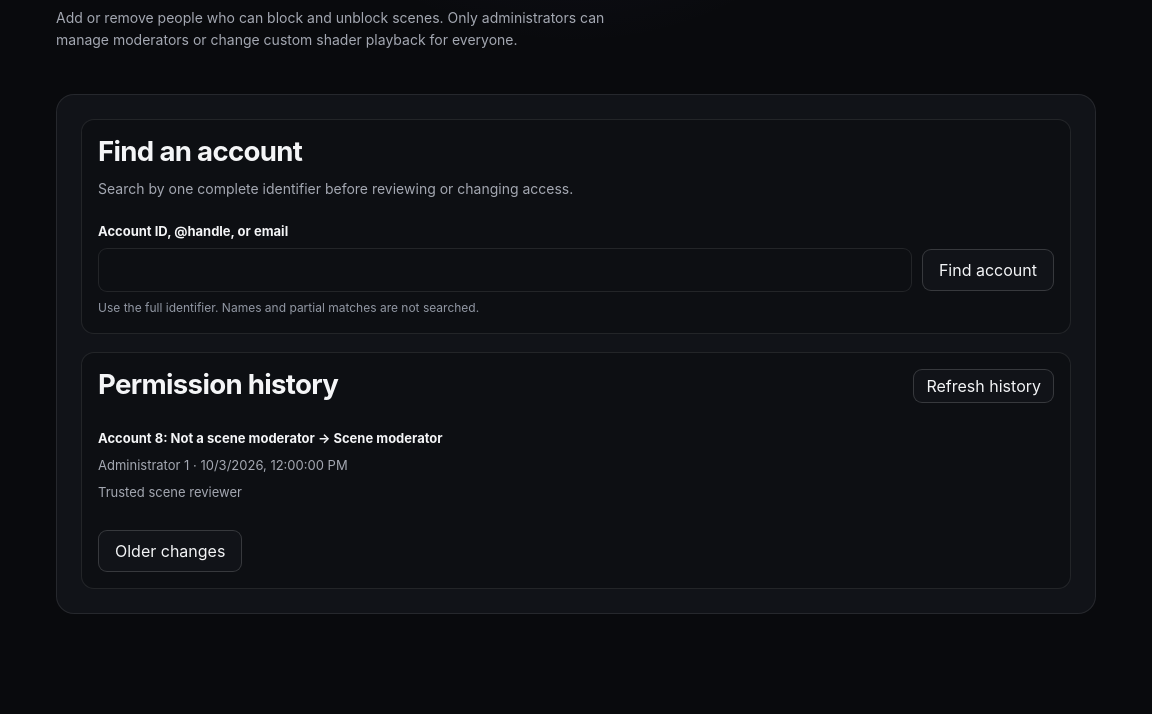
Scenario: moderator management › shows administrator audit records and replaces the bounded page when loading older history
This screenshot has width=1152, height=714.
(page scrolled)
Check: the text "Trusted scene reviewer" is shown, box [98,484,242,500]
Check: the text "Administrator 1 · 10/3/2026, 12:00:00 PM" is shown, box [98,457,348,473]
Click the button "Older changes" at {"x": 170, "y": 551}, box [98,530,242,572]
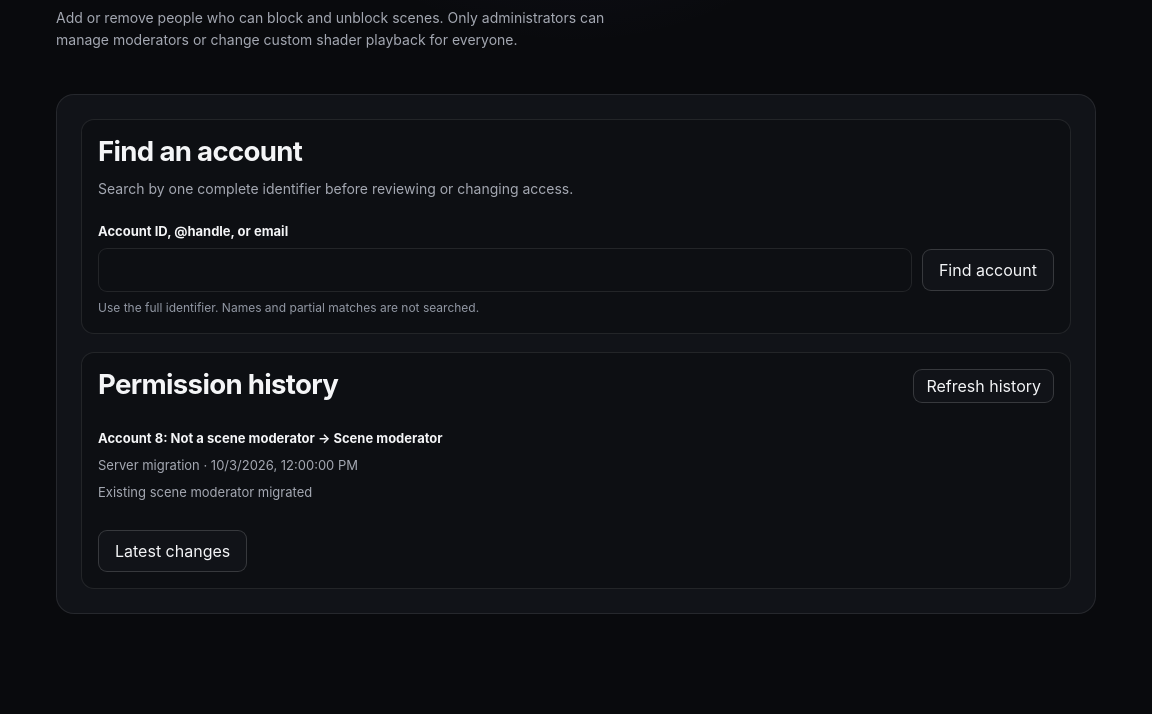
Check: the text "Existing scene moderator migrated" is shown, box [98,484,312,500]
Check: the text "Server migration · 10/3/2026, 12:00:00 PM" is shown, box [98,457,358,473]
Check: the text "Trusted scene reviewer" is gone
